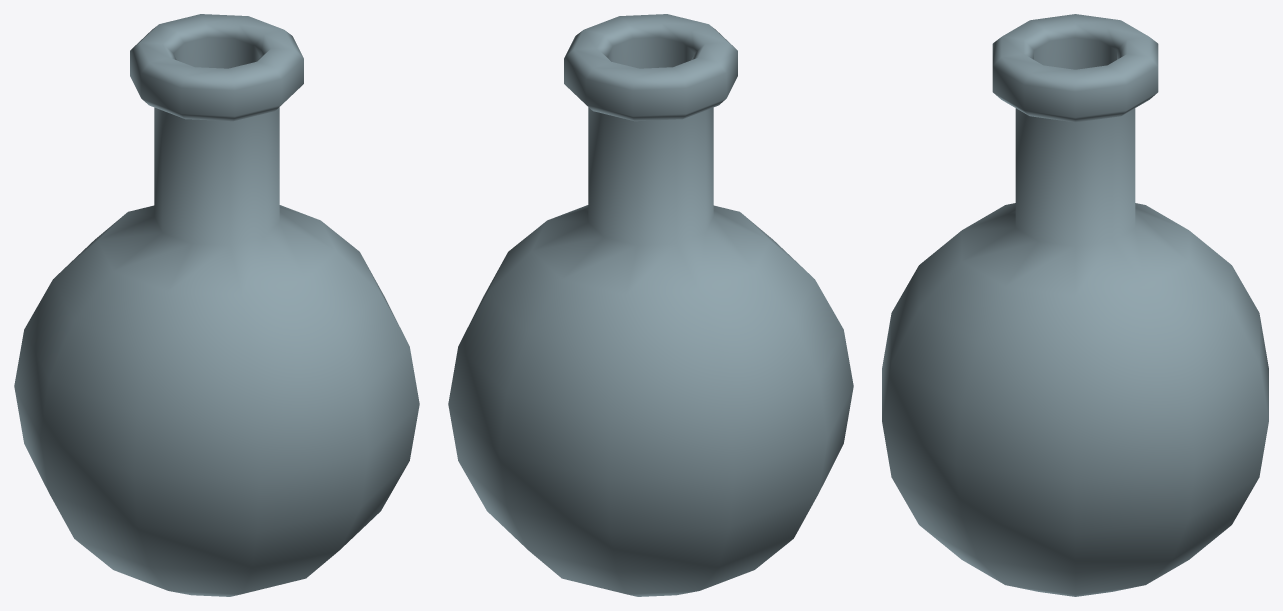
The model's file is potion.fbx.
The picture shows the model from 3 angles, left to right: view 1: azimuth 30°, elevation 25°; view 2: azimuth 150°, elevation 25°; view 3: azimuth 270°, elevation 25°; orthographic projection.
Visible parts, largest first — view 1: pSphere4; view 2: pSphere4; view 3: pSphere4.
Boxes of the visible parts, box(x1,y1,x2,y2) form: pSphere4: box(14, 14, 419, 596); pSphere4: box(448, 14, 853, 596); pSphere4: box(882, 14, 1268, 596).
Bounding box in the file's own units: 13.36 × 18.98 × 12.71.
